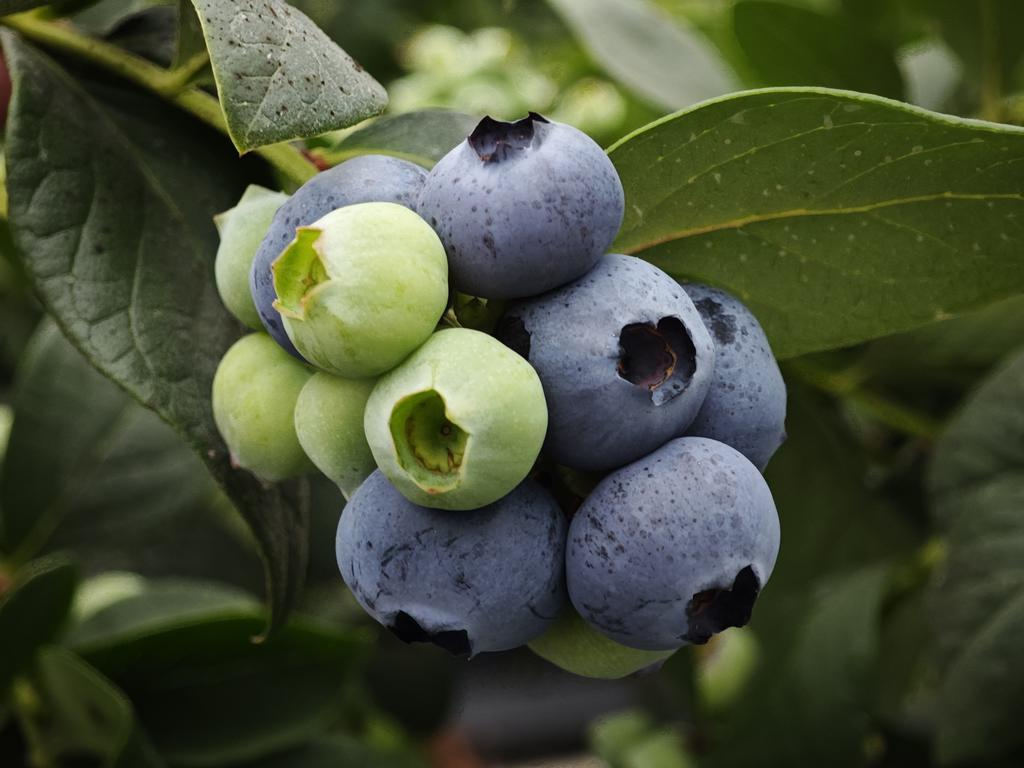RipeBlueBerry: (565, 432, 782, 654), (334, 468, 562, 661), (522, 253, 719, 464), (415, 110, 627, 303)
UnripeBlueBerry: (362, 323, 551, 516), (272, 195, 451, 377)
